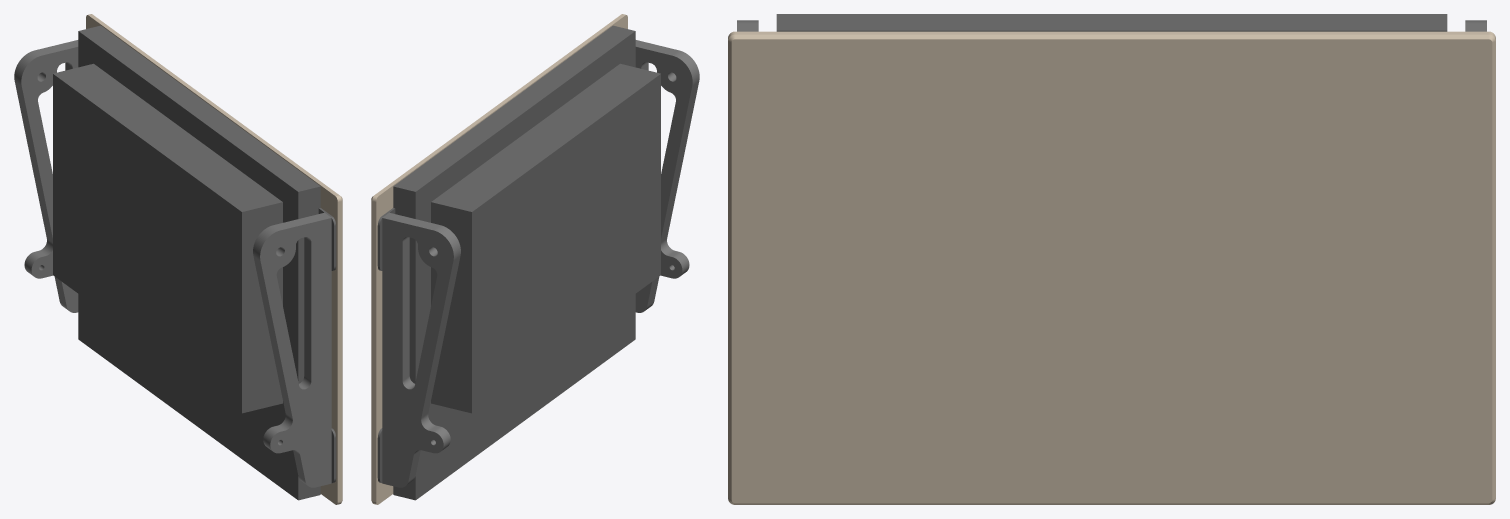
Rendered from head_screen.dae.
The picture shows the model from 3 angles, left to right: view 1: azimuth 30°, elevation 25°; view 2: azimuth 150°, elevation 25°; view 3: azimuth 270°, elevation 25°; orthographic projection. The views are drawn at different scales.
Visible parts, largest first — view 1: Untitled_001, Untitled, Untitled_003, Untitled_002; view 2: Untitled_001, Untitled_003, Untitled, Untitled_002; view 3: Untitled_002, Untitled_001.
Part boxes in pixels (x1,y1,x2,y2): Untitled_001: (53, 25, 336, 500); Untitled: (253, 212, 331, 487); Untitled_003: (14, 40, 78, 312); Untitled_002: (86, 14, 342, 504); Untitled_001: (377, 25, 660, 500); Untitled_003: (382, 212, 460, 487); Untitled: (635, 40, 699, 312); Untitled_002: (371, 14, 627, 504); Untitled_002: (728, 31, 1495, 504); Untitled_001: (776, 14, 1447, 31).
Bounding box in the file's own units: 0.0395 × 0.213 × 0.144.
